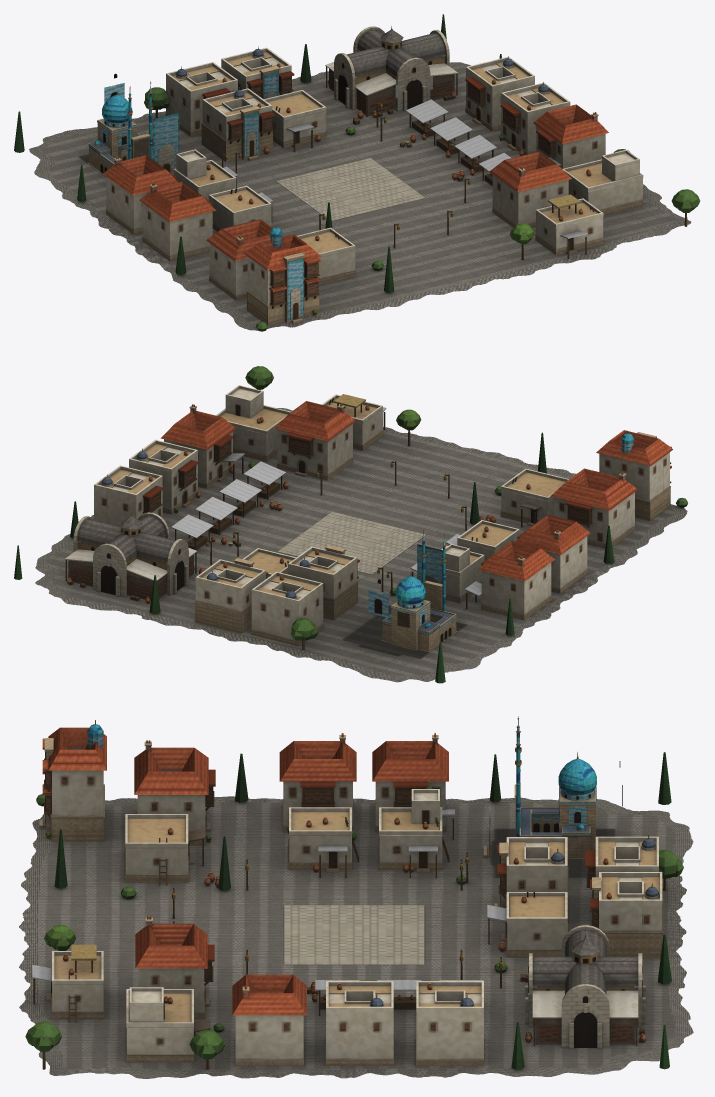
Rendered from gunpowder-town-medium-a-levant-206d4610.glb.
3 views of the same model, one above another, from view 1: azimuth 30°, elevation 25°; view 2: azimuth 150°, elevation 25°; view 3: azimuth 270°, elevation 25° (orthographic). The views are drawn at different scales.
Visible parts, largest first — view 1: LOD0; view 2: LOD0; view 3: LOD0.
Part boxes in pixels (<box>): LOD0: <box>14,14,700,331</box>; LOD0: <box>14,366,687,683</box>; LOD0: <box>19,716,693,1078</box>.
Size of what is drawn, in the model's own units: 6.03 by 1.22 by 6.09.
Materials: 3 (3 with a texture image).
